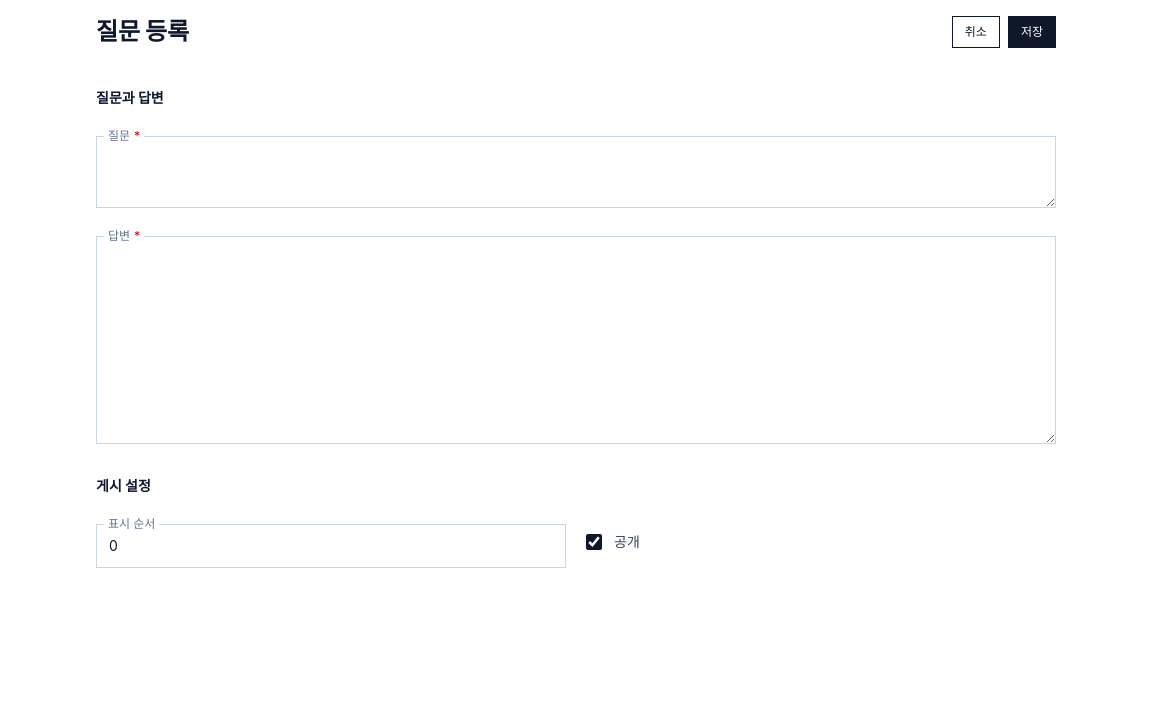
Test case: 관리 메뉴와 공통 작성 폼 › 저장 중 입력과 중복 제출 차단, 전송 실패 시 재시도 가능
Type "질문" into the text box labelled "질문" at [576, 172], box [96,136,1056,208]
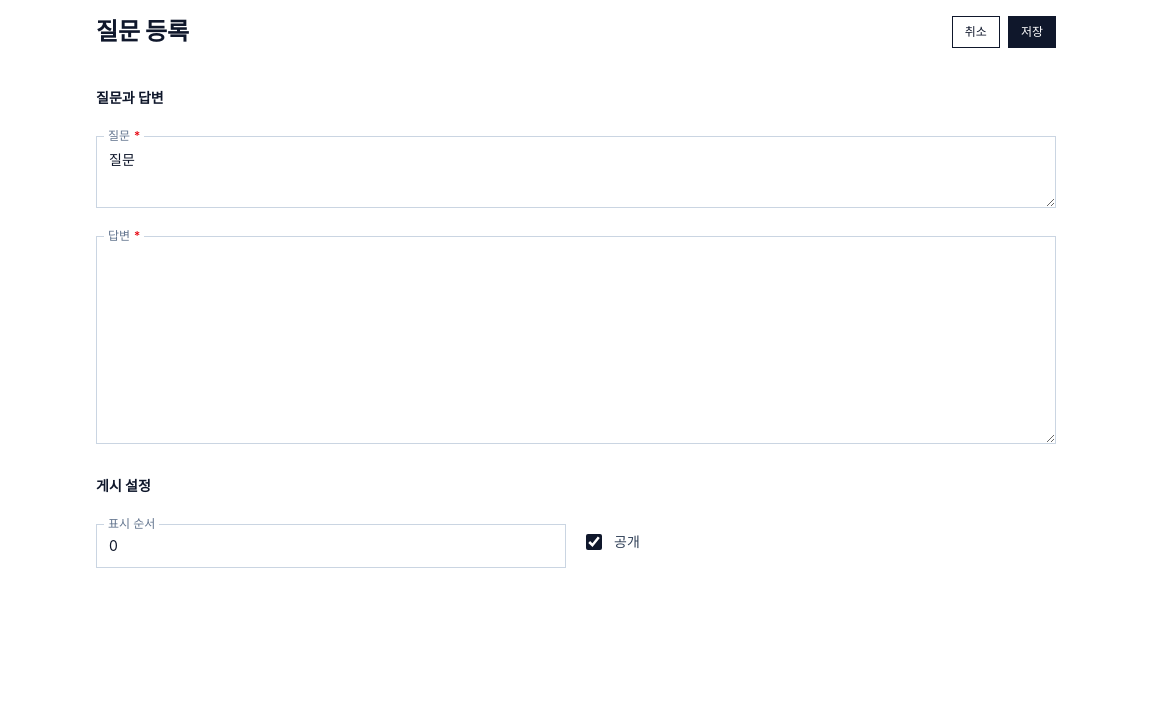
Type "답변" into the text box labelled "답변" at [576, 340], box [96,236,1056,444]
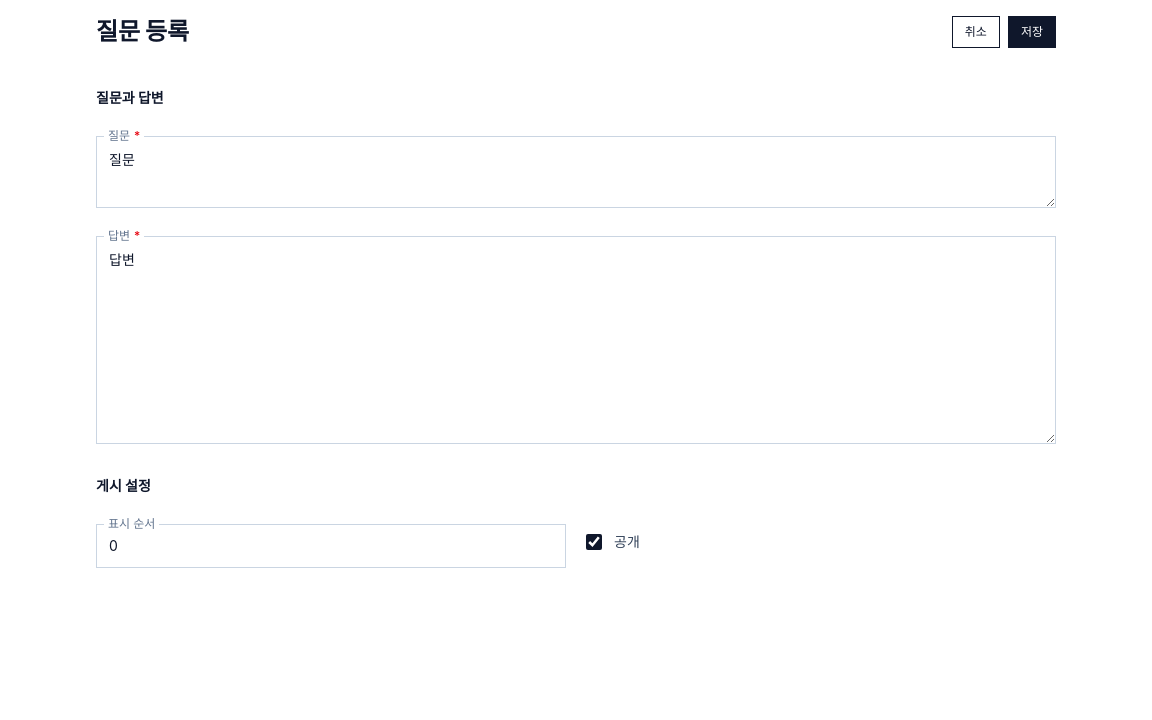
Submit the form "저장"
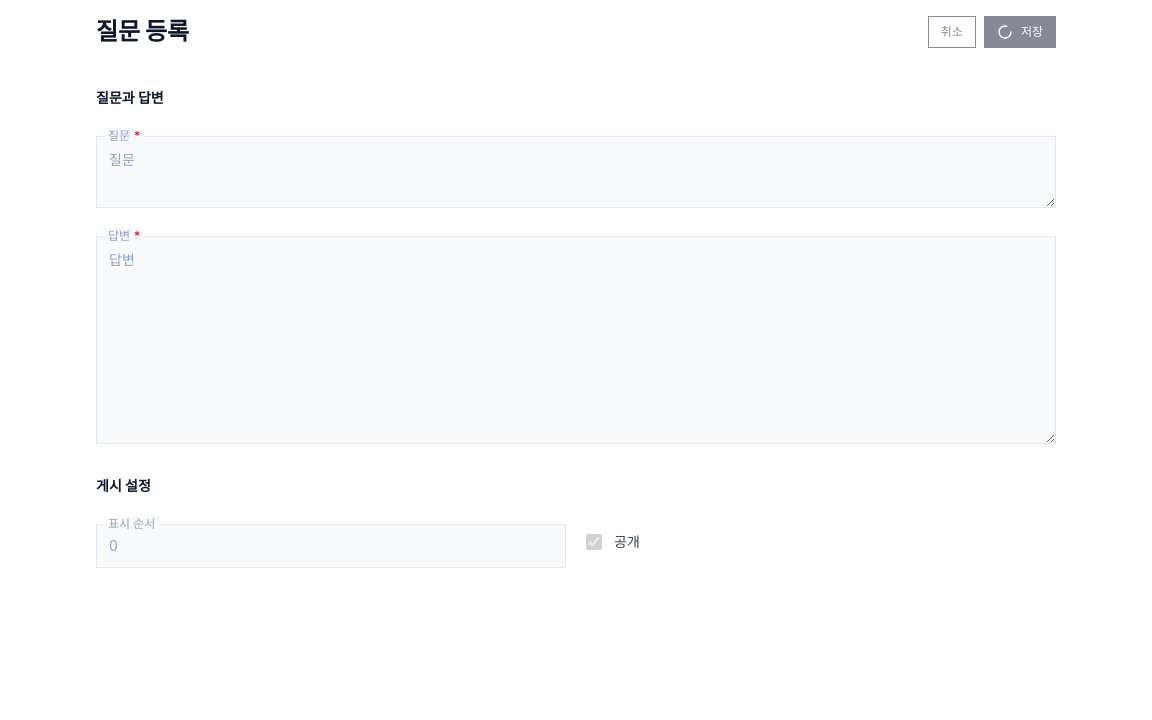
Submit the form "저장"
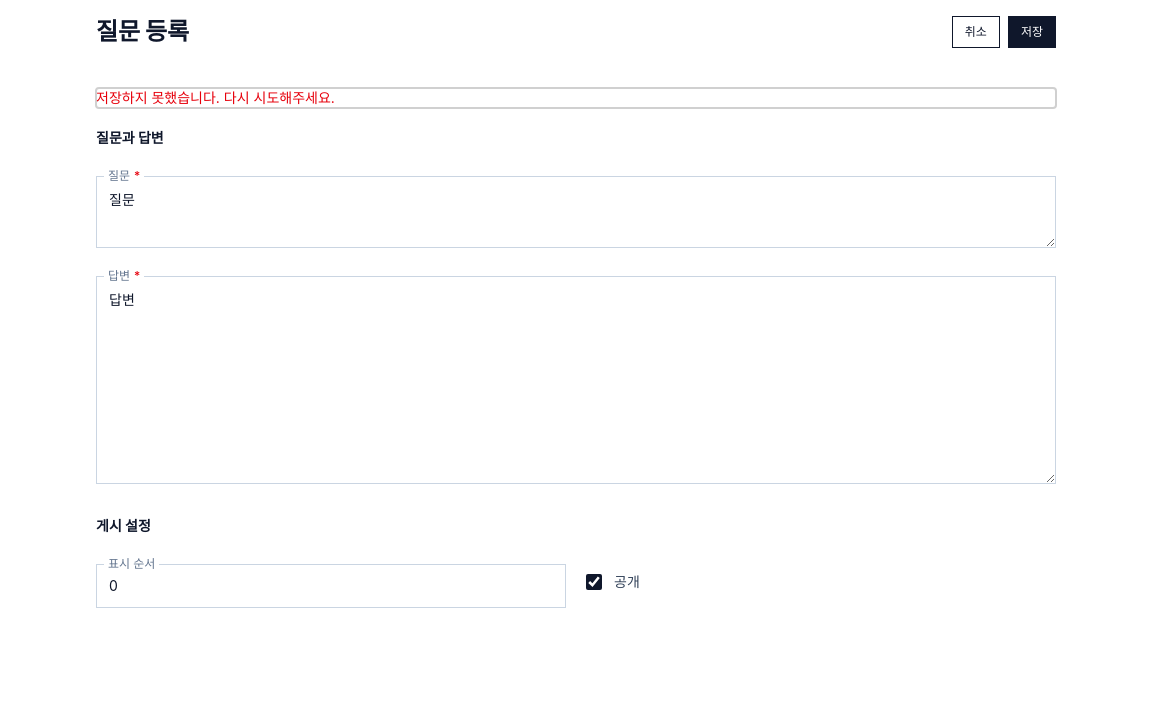
Now the text "저장하지 못했습니다. 다시 시도해주세요." is shown, box [96,89,335,106]
